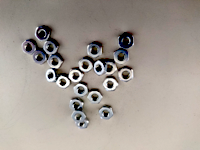nut: (118, 67, 135, 83), (119, 33, 135, 49), (47, 54, 64, 69), (35, 26, 51, 41), (103, 76, 118, 92), (22, 40, 38, 55), (114, 50, 129, 65), (44, 40, 59, 55), (88, 42, 102, 58), (98, 106, 114, 120), (87, 91, 103, 105), (93, 61, 107, 76), (78, 58, 93, 72), (33, 51, 48, 65), (69, 70, 85, 83), (57, 75, 71, 89), (72, 110, 87, 123), (104, 62, 118, 75), (74, 84, 88, 97), (46, 69, 59, 83), (70, 98, 84, 111), (75, 120, 89, 129)
